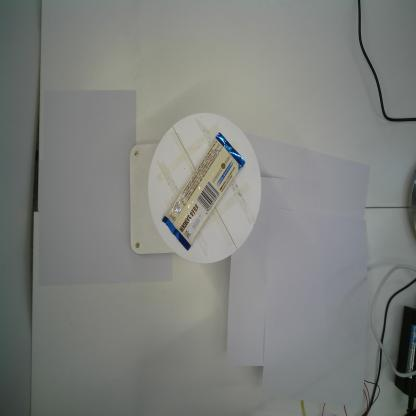Chocolate: (160, 130, 246, 254)
